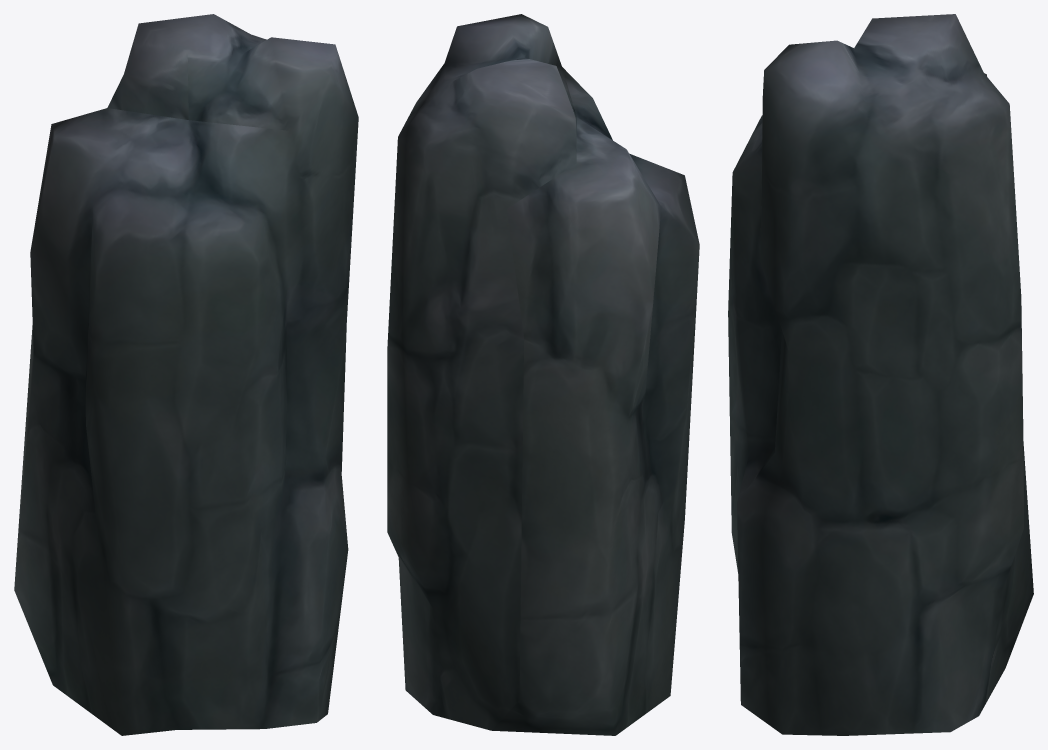
File: TwistedJungle_Stone01.FBX
3 renders of one model, left to right at view 1: azimuth 30°, elevation 25°; view 2: azimuth 150°, elevation 25°; view 3: azimuth 270°, elevation 25°, orthographic. The views are drawn at different scales.
Parts seen in each view (by area): view 1: TwistedJungle_Stone01; view 2: TwistedJungle_Stone01; view 3: TwistedJungle_Stone01.
Boxes of the visible parts, bbox=[...] form: TwistedJungle_Stone01: bbox=[14, 14, 358, 735]; TwistedJungle_Stone01: bbox=[387, 14, 699, 735]; TwistedJungle_Stone01: bbox=[728, 14, 1033, 735].
Size of the model in its own units: 73.18 by 174 by 71.04.
